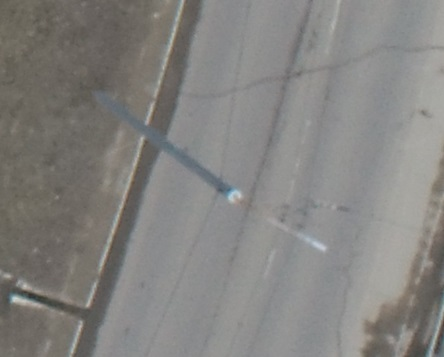opora: (94, 88, 328, 253)
